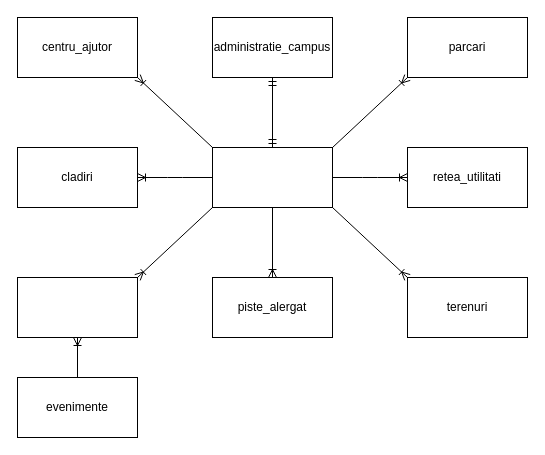
Some shapes in this 545 by 455 pixel diagram are drawn without their labels. Each missing label, with the centre of its shape:
campus_universitar: the point at 272,177
evenimente_campus: the point at 77,307
